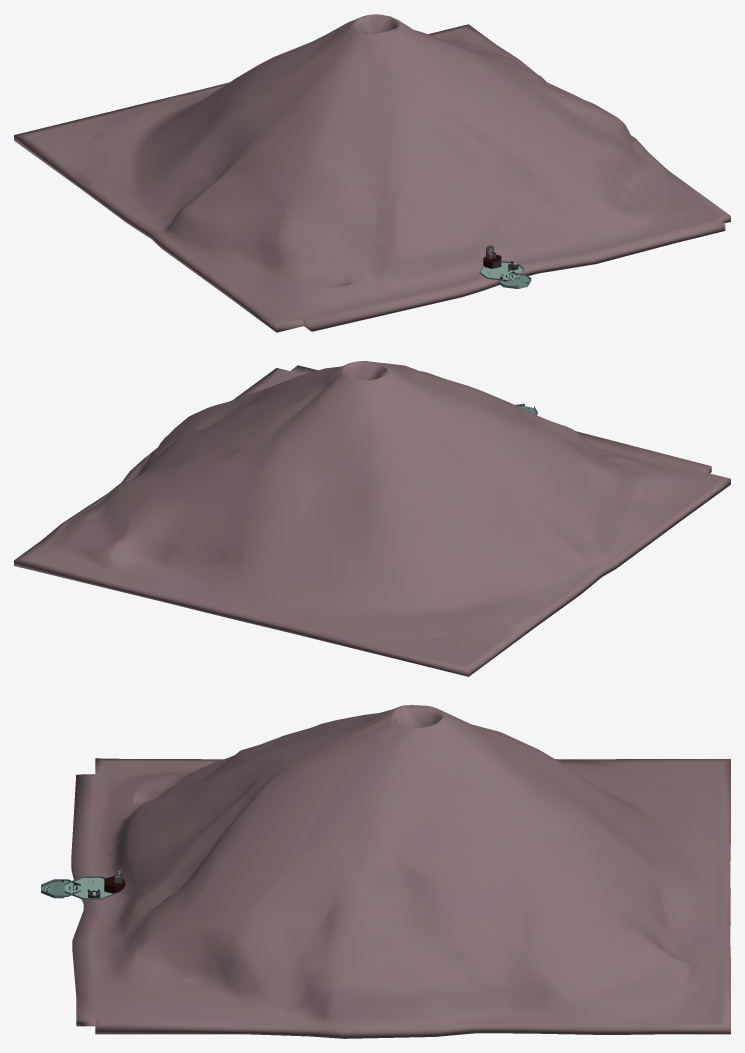
File: volcano_test.gltf
3 renders of one model, top to bottom at view 1: azimuth 30°, elevation 25°; view 2: azimuth 150°, elevation 25°; view 3: azimuth 270°, elevation 25°, orthographic. The views are drawn at different scales.
Parts seen in each view (by area): view 1: floor start; view 2: floor start; view 3: floor start.
Part boxes in pixels (x1,y1,x2,y2): floor start: [14, 14, 730, 332]; floor start: [14, 361, 730, 676]; floor start: [41, 705, 730, 1038].
Size of the model in its own units: 153 by 48.91 by 169.
2 materials, 2 textured.
